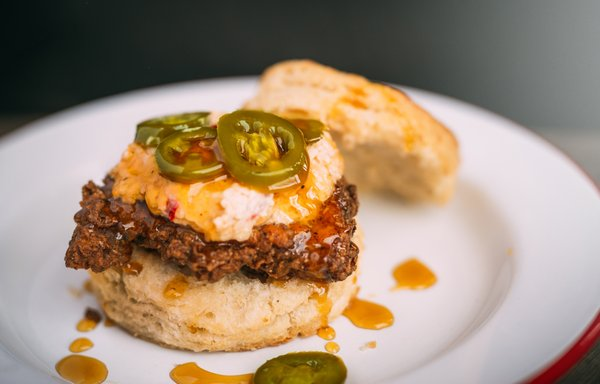soup: (64, 101, 364, 354)
